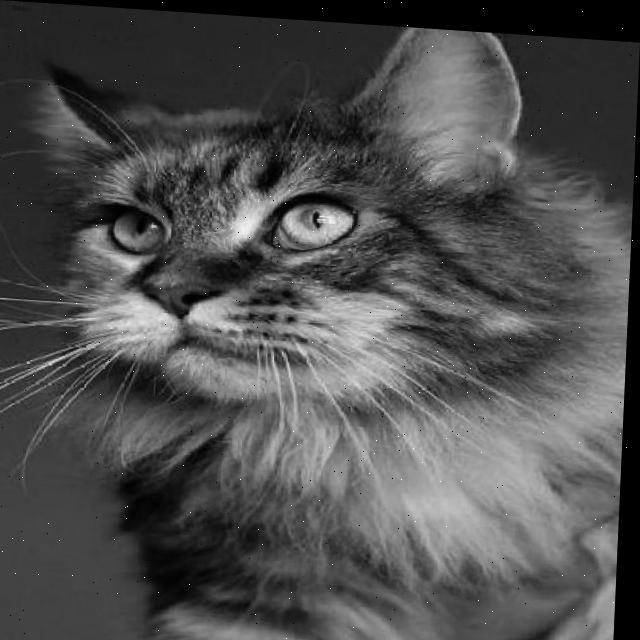Cat: (10, 3, 638, 640)
